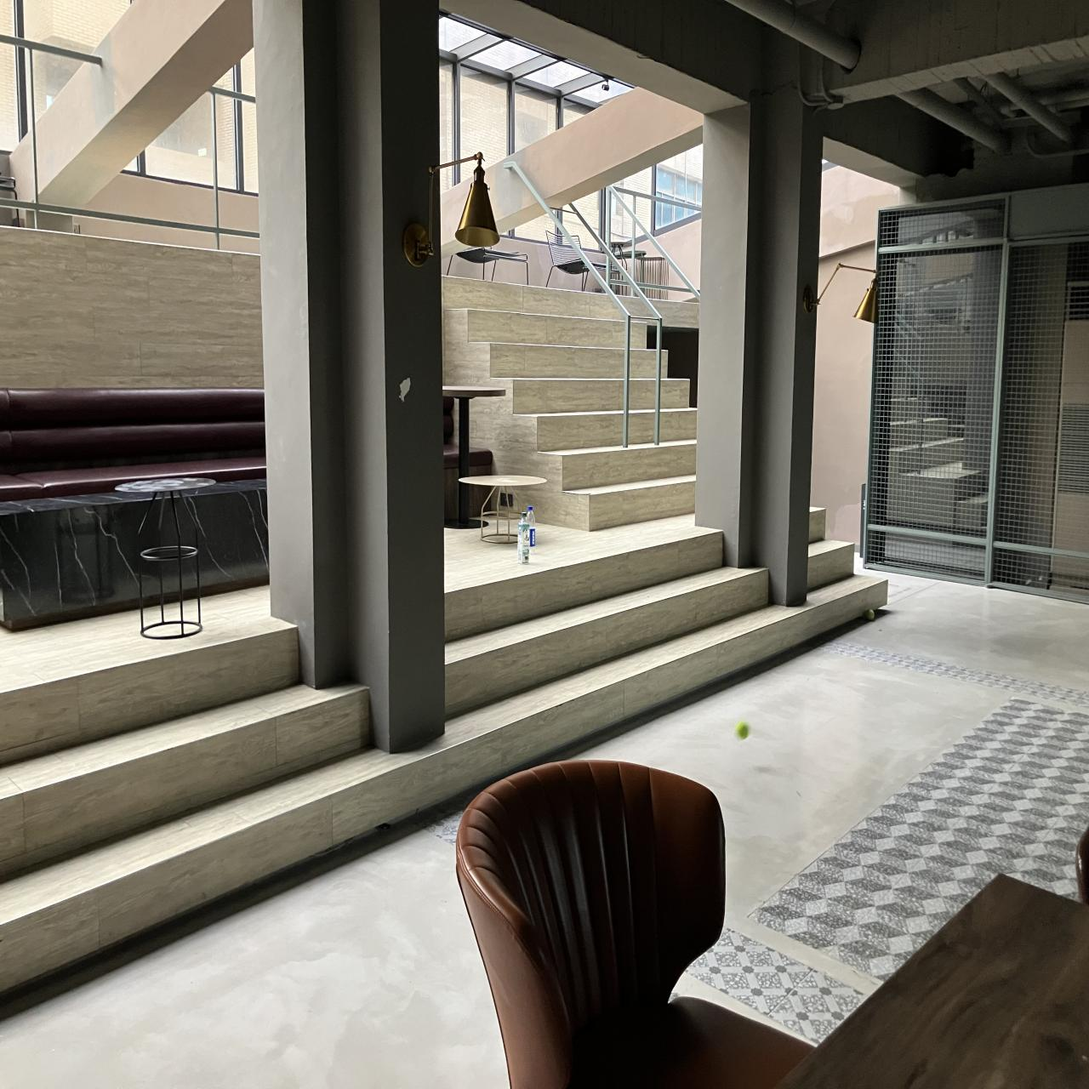plastic-bottle: (517, 512, 530, 564), (527, 505, 536, 548)
tennisball: (735, 721, 749, 739), (864, 609, 875, 621)
